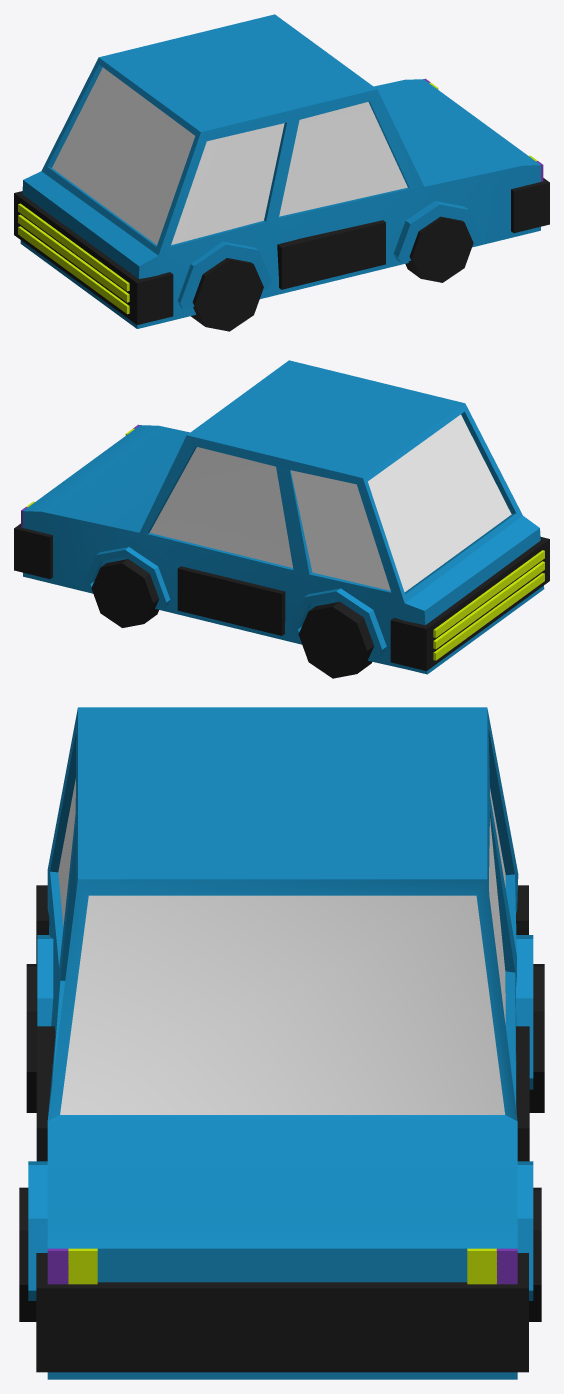
The model's file is kart.obj.
3 views of the same model, one above another, from view 1: azimuth 30°, elevation 25°; view 2: azimuth 150°, elevation 25°; view 3: azimuth 270°, elevation 25° (orthographic). The views are drawn at different scales.
Visible parts, largest first — view 1: Cubo; view 2: Cubo; view 3: Cubo.
Part boxes in pixels (<box>): Cubo: <box>14,14,549,331</box>; Cubo: <box>14,360,549,678</box>; Cubo: <box>19,707,544,1379</box>.
Bounding box in the file's own units: 42.81 × 19.25 × 23.44.
